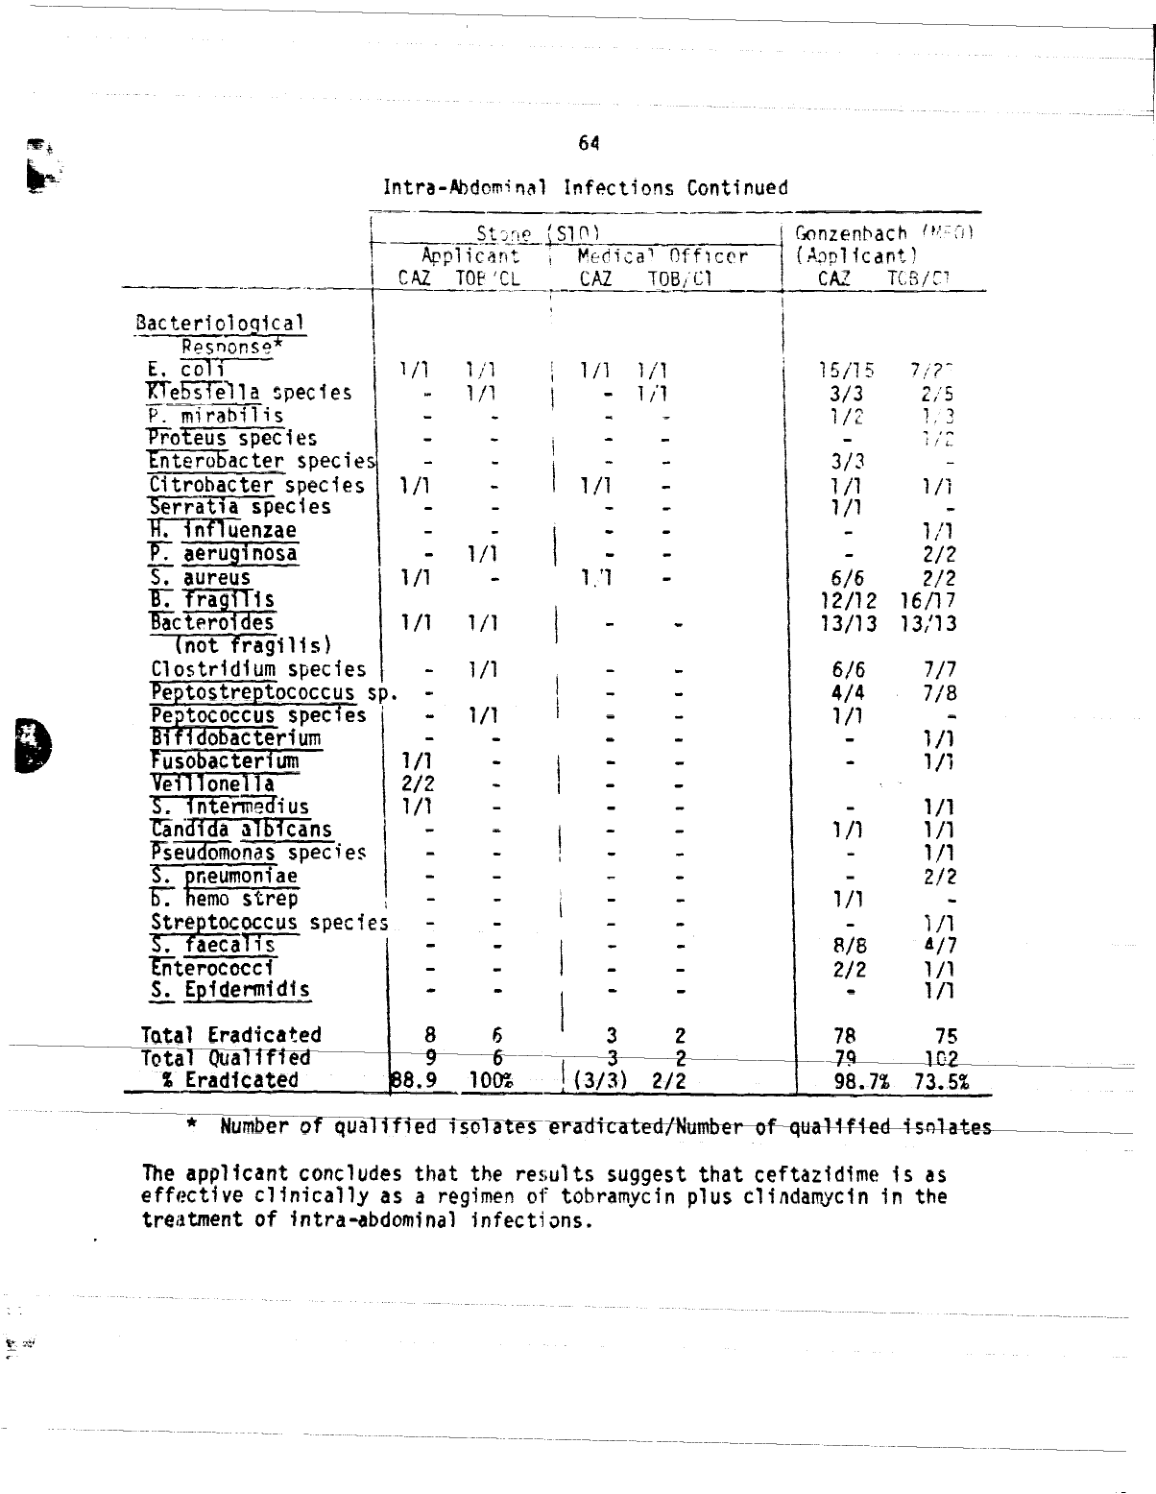partial_lined_merged_cells: (116, 205, 1002, 1102)
